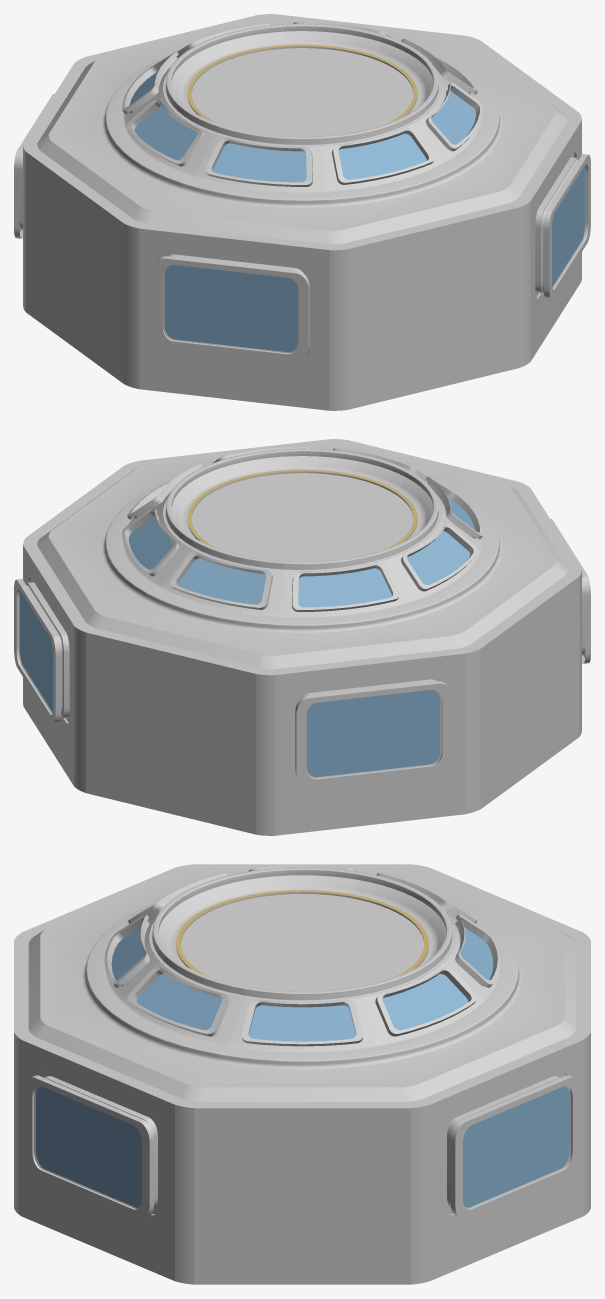
Rendered from FBX_SS_Module1.fbx.
3 renders of one model, top to bottom at view 1: azimuth 30°, elevation 25°; view 2: azimuth 150°, elevation 25°; view 3: azimuth 270°, elevation 25°, orthographic. The views are drawn at different scales.
Parts seen in each view (by area): view 1: Ceiling_Windowed, Walls_Plain, Walls_Windowed, Ceiling_InnerFace, Walls_Windowed.005, Walls_Corners_Plain; view 2: Ceiling_Windowed, Walls_Plain, Walls_Windowed, Ceiling_InnerFace, Walls_Windowed.005, Walls_Corners_Plain; view 3: Ceiling_Windowed, Walls_Plain, Walls_Windowed, Ceiling_InnerFace, Walls_Windowed.005, Walls_Corners_Plain.
Boxes of the visible parts, <box> form: Ceiling_Windowed: <box>23,14,581,250</box>; Walls_Plain: <box>25,152,518,409</box>; Walls_Windowed: <box>14,94,590,410</box>; Ceiling_InnerFace: <box>183,44,421,136</box>; Walls_Windowed.005: <box>164,166,584,352</box>; Walls_Corners_Plain: <box>23,119,581,410</box>; Ceiling_Windowed: <box>23,439,581,675</box>; Walls_Plain: <box>86,577,579,834</box>; Walls_Windowed: <box>14,519,590,835</box>; Ceiling_InnerFace: <box>183,469,421,561</box>; Walls_Windowed.005: <box>20,591,440,777</box>; Walls_Corners_Plain: <box>23,544,581,835</box>; Ceiling_Windowed: <box>14,864,590,1108</box>; Walls_Plain: <box>194,1108,410,1284</box>; Walls_Windowed: <box>22,1040,582,1280</box>; Ceiling_InnerFace: <box>171,890,433,991</box>; Walls_Windowed.005: <box>36,1086,568,1207</box>; Walls_Corners_Plain: <box>14,1032,590,1284</box>.
Bounding box in the file's own units: 800 × 356 × 800.
